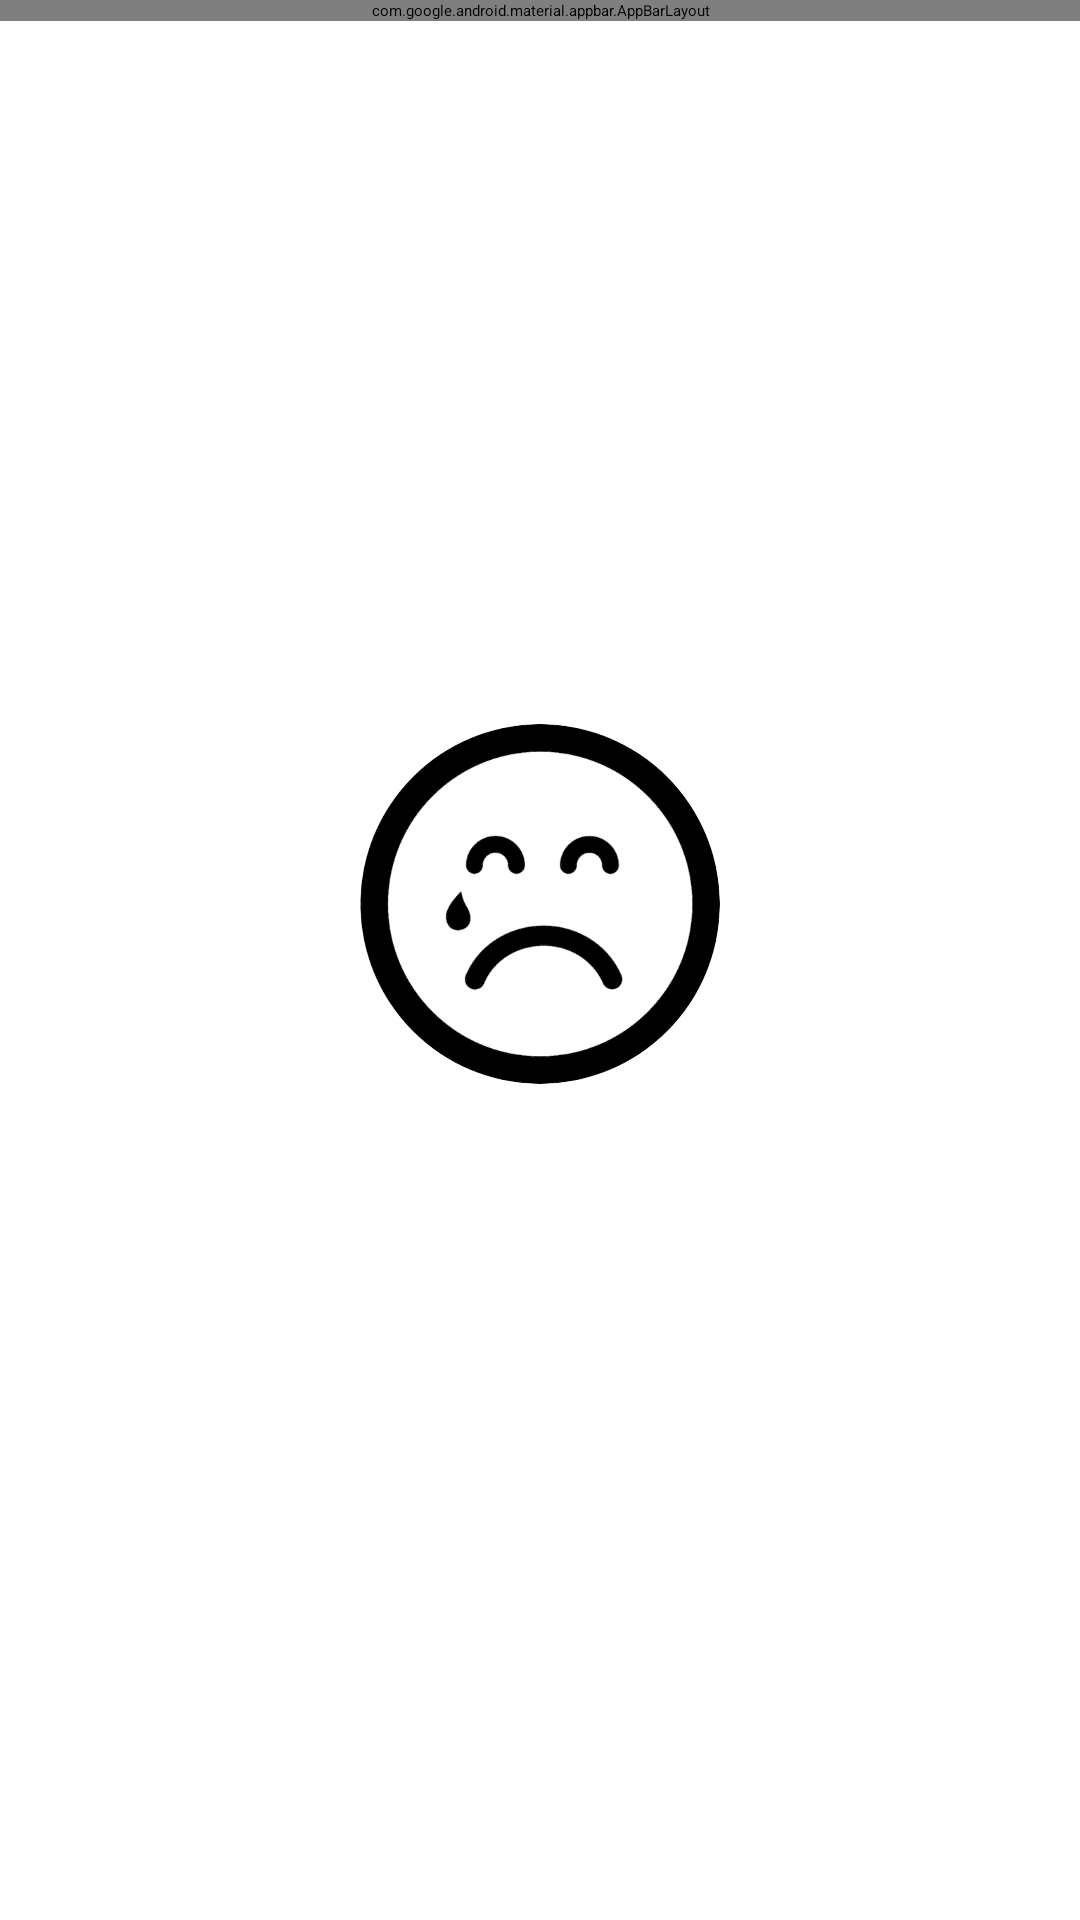

Point at icon controls on the screen. Image size 1080w x 1920h, points as [x,y].
empty: [540,904]
